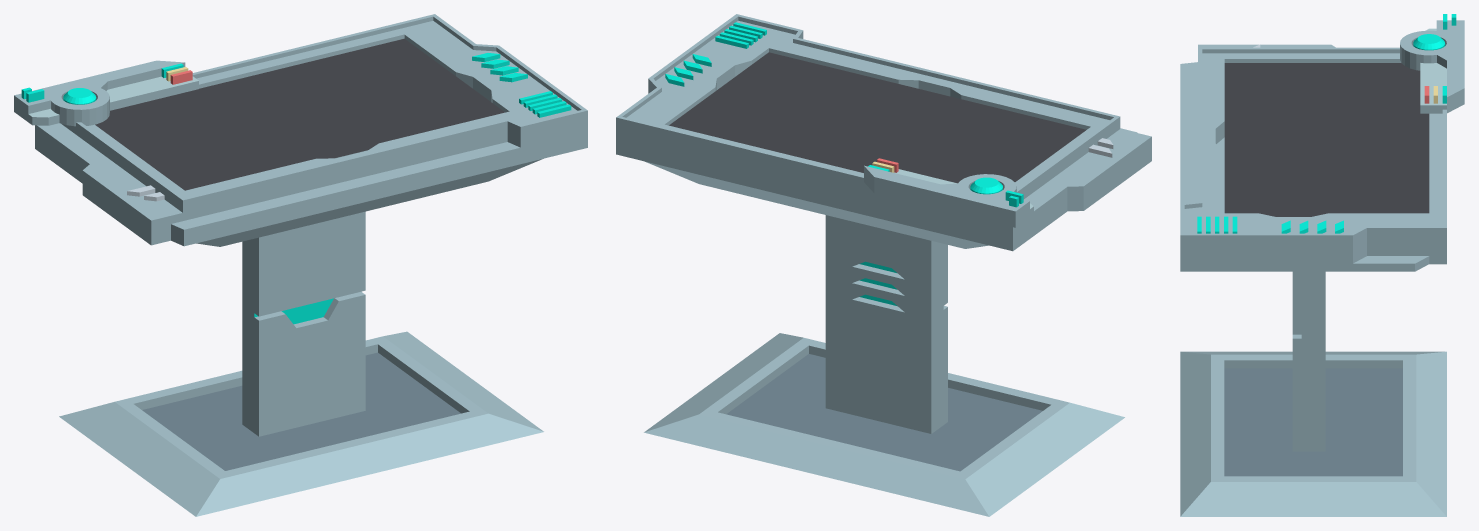
File: console table.fbx
3 renders of one model, left to right at view 1: azimuth 30°, elevation 25°; view 2: azimuth 150°, elevation 25°; view 3: azimuth 270°, elevation 25°, orthographic. The views are drawn at different scales.
Parts seen in each view (by area): view 1: console table; view 2: console table; view 3: console table.
Part boxes in pixels (x1,y1,x2,y2): console table: [14, 14, 587, 516]; console table: [616, 14, 1151, 516]; console table: [1180, 14, 1464, 516].
Size of the model in its own units: 54 by 40 by 32.
